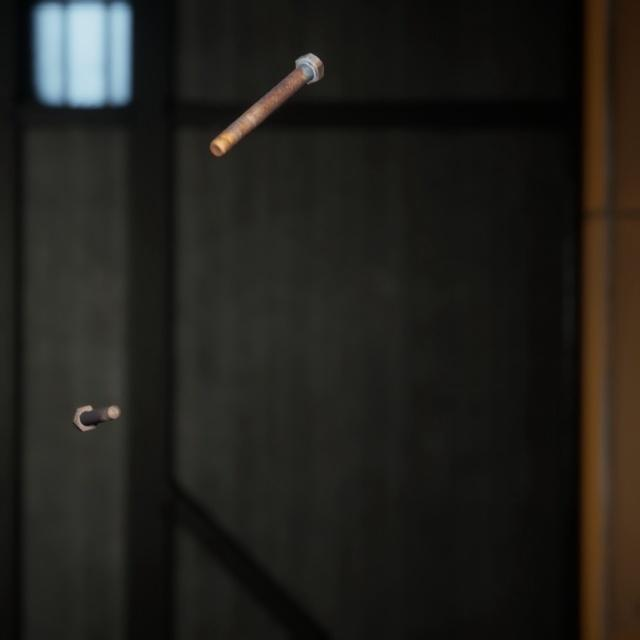bolt: (205, 36, 328, 148), (67, 380, 125, 417)
